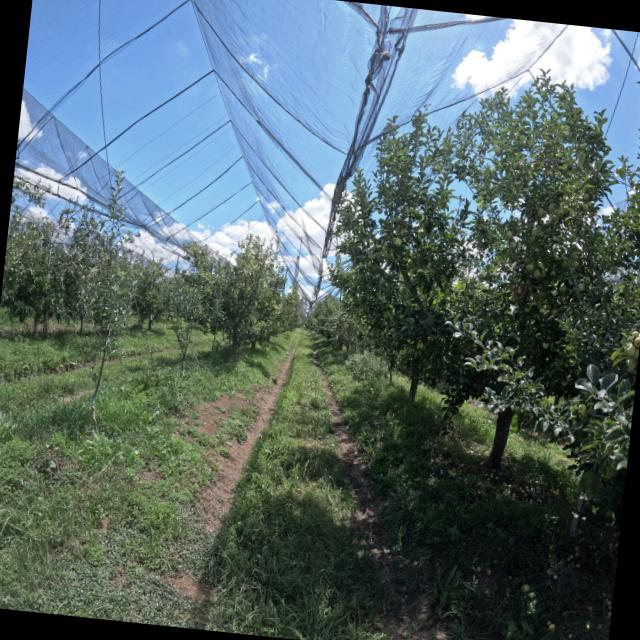-FireBlight-: (510, 280, 524, 302)
